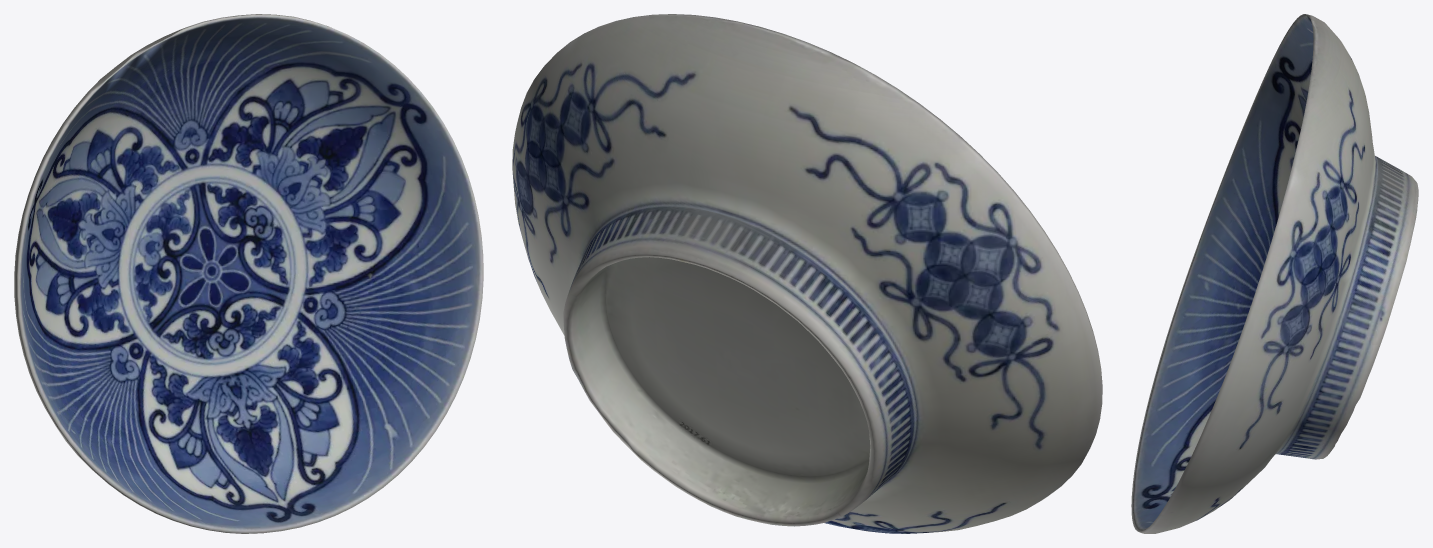
File: dish_with_ginkgo_leaves-opt.glb
3 renders of one model, left to right at view 1: azimuth 30°, elevation 25°; view 2: azimuth 150°, elevation 25°; view 3: azimuth 270°, elevation 25°, orthographic. The views are drawn at different scales.
Parts seen in each view (by area): view 1: Object_2; view 2: Object_2; view 3: Object_2.
Boxes of the visible parts, box(x1,y1,x2,y2) form: Object_2: box(14, 14, 483, 533); Object_2: box(512, 14, 1102, 533); Object_2: box(1131, 14, 1418, 533).
Size of the model in its own units: 0.2032 by 0.1896 by 0.1062.
Materials: 1 (1 with a texture image).
